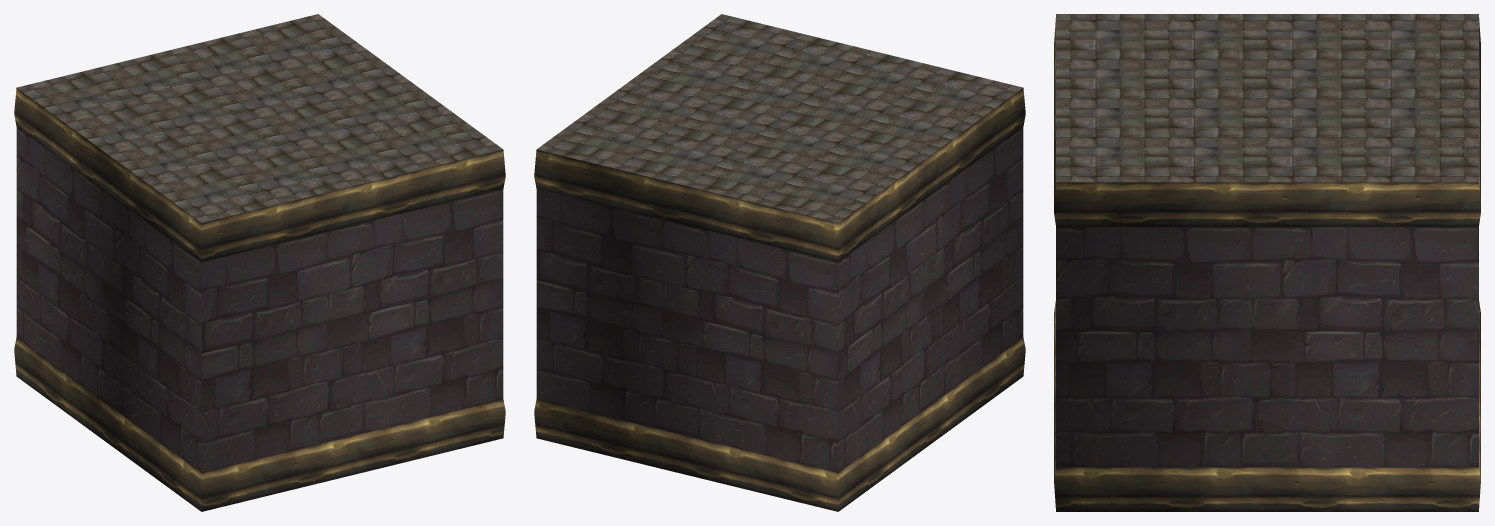
File: ti_buildingblock02.obj
3 views of the same model, side by side, from view 1: azimuth 30°, elevation 25°; view 2: azimuth 150°, elevation 25°; view 3: azimuth 270°, elevation 25° (orthographic). The views are drawn at different scales.
Parts seen in each view (by area): view 1: Geoset2, Geoset0, Geoset1; view 2: Geoset2, Geoset0, Geoset1; view 3: Geoset2, Geoset0, Geoset1.
Boxes of the visible parts, <box> form: Geoset2: <box>16,127,503,472</box>; Geoset0: <box>17,14,502,222</box>; Geoset1: <box>14,88,505,511</box>; Geoset2: <box>536,127,1023,472</box>; Geoset0: <box>537,14,1022,222</box>; Geoset1: <box>534,88,1025,511</box>; Geoset2: <box>1056,227,1478,467</box>; Geoset0: <box>1056,14,1478,182</box>; Geoset1: <box>1054,18,1480,511</box>.
Size of the model in its own units: 116 by 105 by 123.
3 materials, 3 textured.
